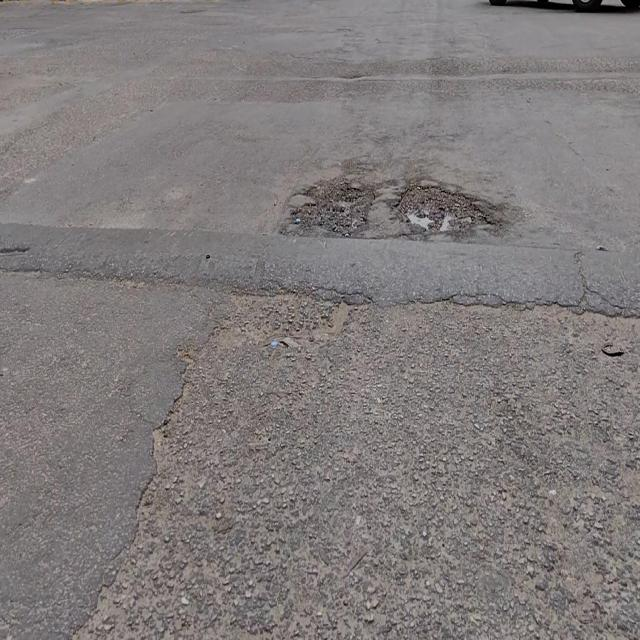Potholes: (394, 185, 499, 238), (293, 182, 374, 235)
